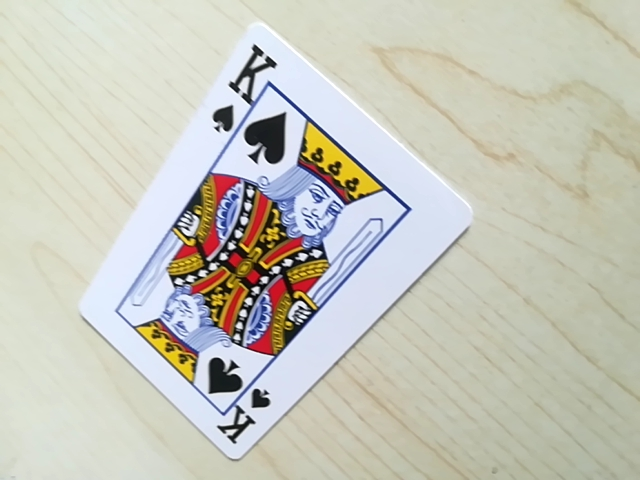ht k: (211, 30, 284, 155), (207, 383, 276, 453)
